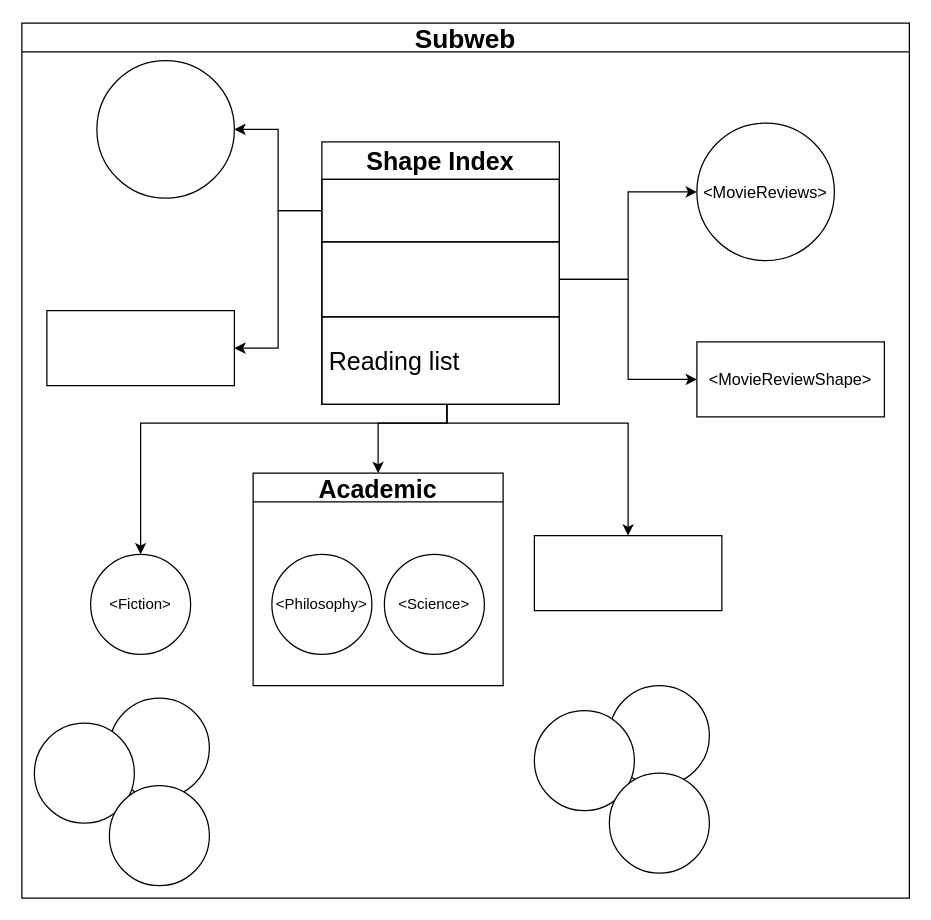
Image size: 931x920. Some labels were removed from this diagram. Here are the shapes that lost their labels. From the top down, the centre of each, then its label:
(165,128): <Profile>
(440,210): Profile
(440,279): Movie reviews
(140,347): <ProfileShape>
(627,572): <ReadingLishShape>
